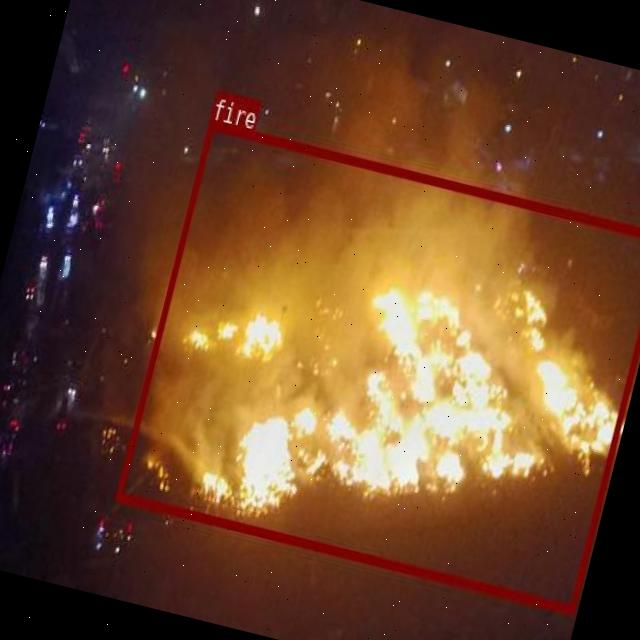fire: (114, 119, 640, 612)
